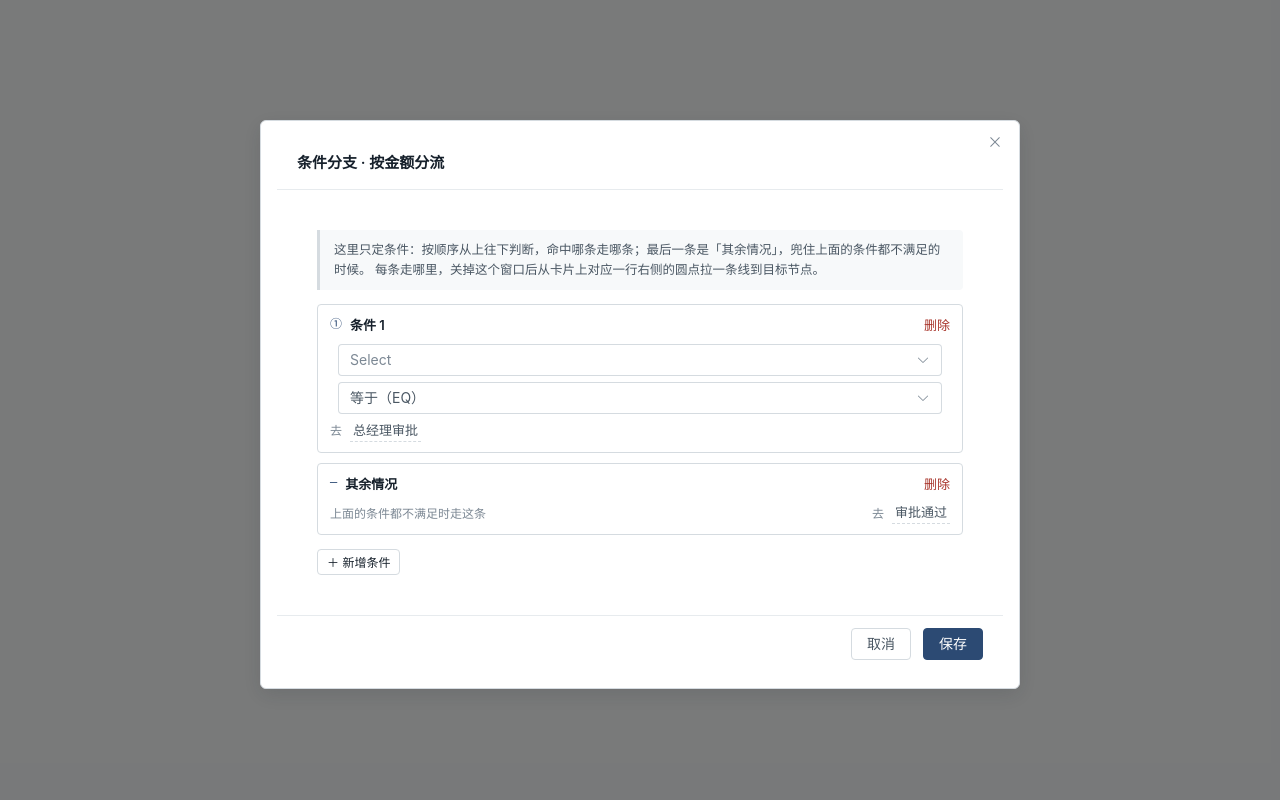
Scenario: 条件分支编辑器 › 中间一条没配字段时拦下保存并提示是第几条
This screenshot has width=1280, height=800.
Click the button "保存".
click(953, 644)  # box [923,628,983,660]
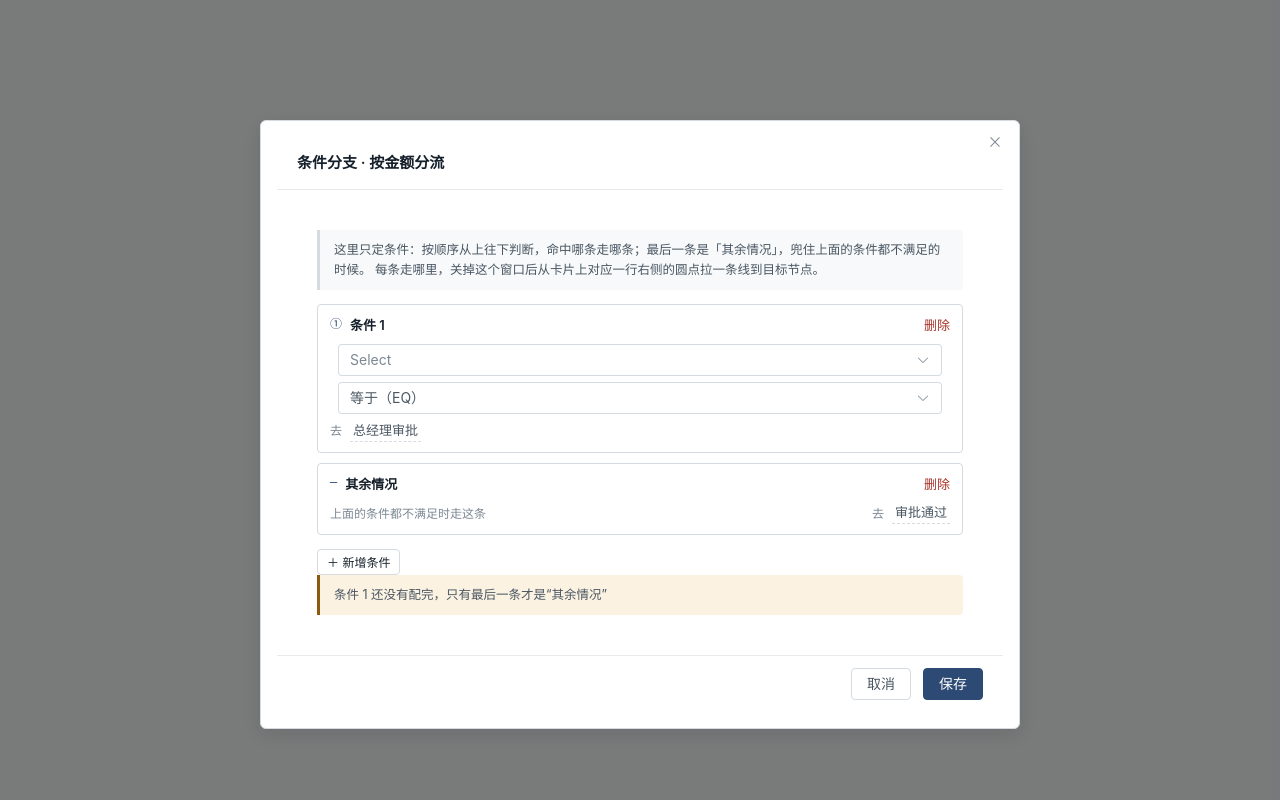
Expected: the text "条件 1" is shown, [350,315,385,336]
Expected: the text "还没有配完" is shown, [334,587,607,602]
